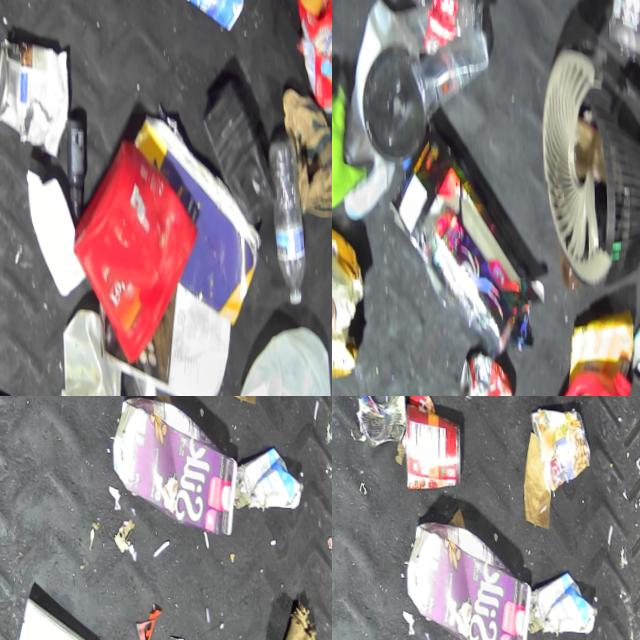can: (0, 30, 69, 156), (402, 397, 463, 489), (529, 398, 592, 487), (454, 345, 511, 396), (353, 396, 407, 446), (626, 309, 640, 383)
milk_jug: (230, 313, 331, 396)
non_white_jug: (67, 127, 201, 367), (110, 396, 237, 531), (404, 508, 531, 640), (292, 0, 332, 106), (538, 358, 629, 396)
plastic_bottle: (265, 126, 305, 300)
